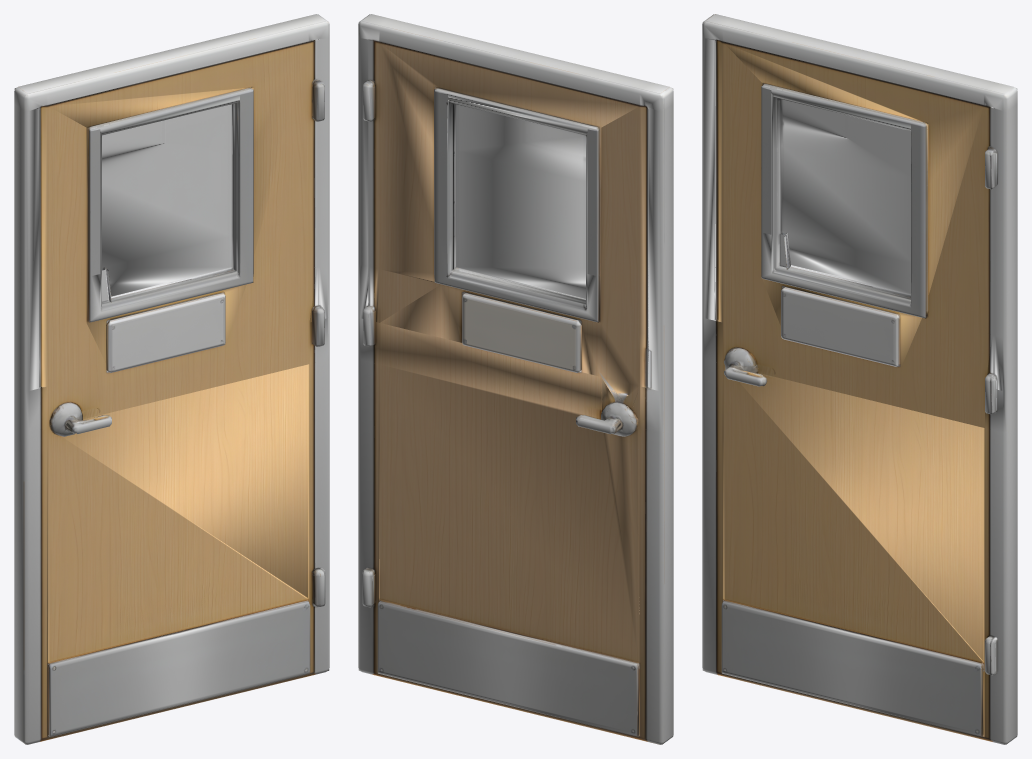
The model's file is Meshy_AI_Door_0114190415_texture.fbx.
3 renders of one model, left to right at view 1: azimuth 30°, elevation 25°; view 2: azimuth 150°, elevation 25°; view 3: azimuth 330°, elevation 25°, orthographic.
Visible parts, largest first — view 1: Mesh_0; view 2: Mesh_0; view 3: Mesh_0.
Boxes of the visible parts, x1,y1,x2,y2 form: Mesh_0: (14,14,329,744); Mesh_0: (358,14,673,744); Mesh_0: (702,14,1017,744).
Size of the model in its own units: 98.35 by 200 by 21.81.
1 material, 1 textured.
